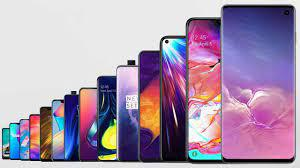Smartphone: (219, 7, 293, 162), (187, 16, 224, 162), (161, 40, 190, 164), (140, 48, 162, 165), (118, 66, 142, 161), (97, 73, 119, 162), (81, 86, 100, 163), (63, 95, 83, 165), (51, 100, 65, 163), (28, 113, 42, 162), (39, 106, 51, 160), (18, 116, 31, 158), (9, 123, 22, 163), (2, 128, 10, 160)
